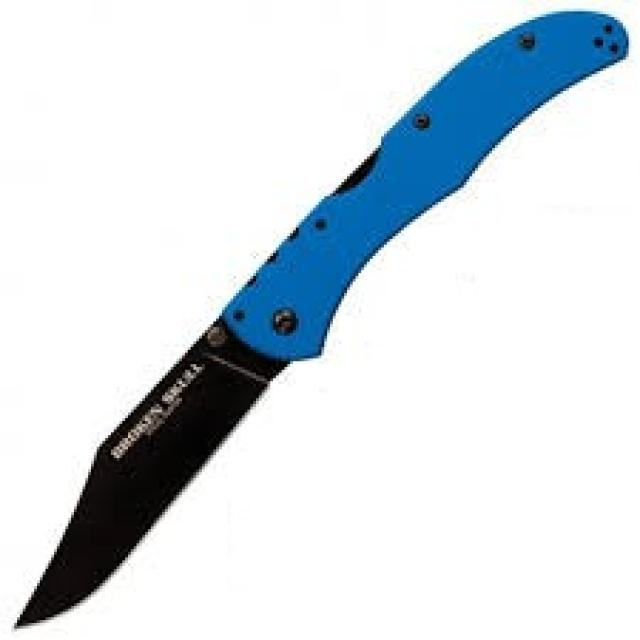knife: (14, 8, 632, 631)
